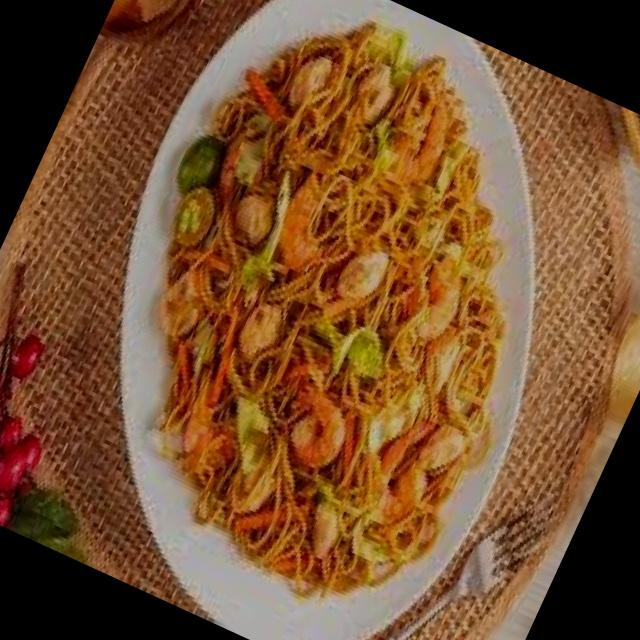pancit bihon: (171, 30, 500, 592)
